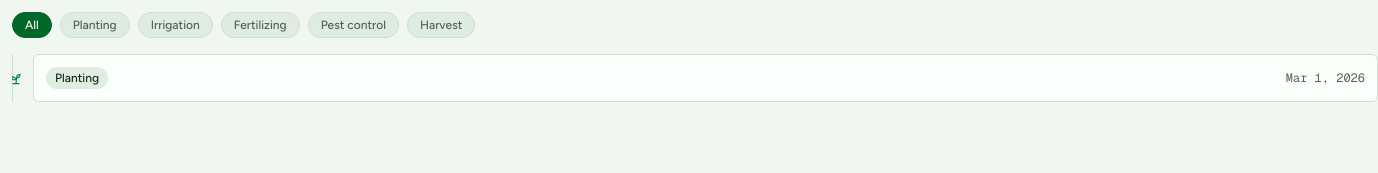
Test: ActivityTimeline › shows an empty state when no activity matches the filter
The image size is (1378, 173).
Expected: the button "Planting" is shown, left=60, top=12, right=130, bottom=38
Click the button "Harvest" at (441, 25), box left=407, top=12, right=475, bottom=38
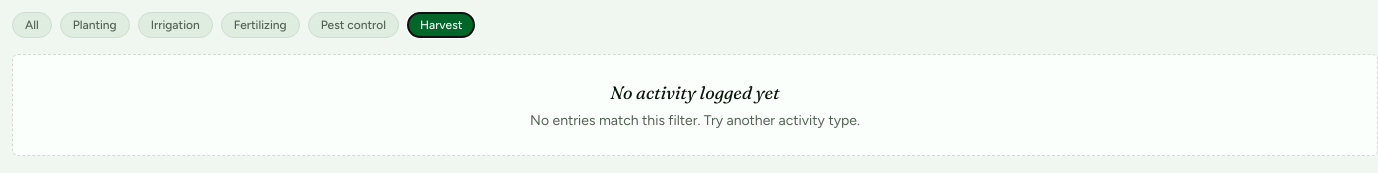
Now the text "No entries match this filter. Try another activity type." is shown, box left=530, top=112, right=860, bottom=129
